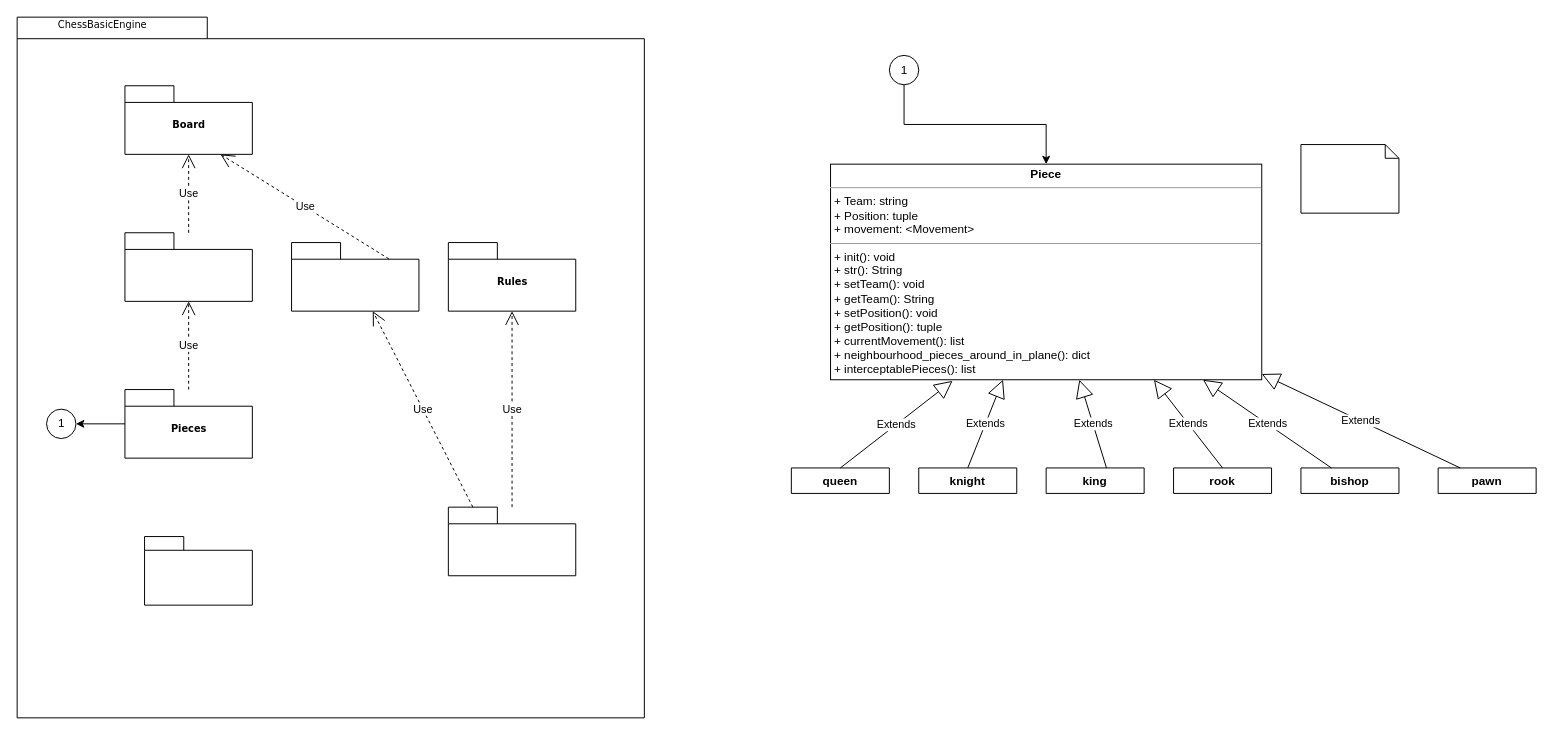
Image size: 1553x735. Some labels were removed from this diagram. Each missing label, with the centre of its shape:
Game: the point at 511,541
GeneralMovements: the point at 188,266
StarterGraphics: the point at 355,276
StatusCodes: the point at 198,570
the movement and postiion is stored in the piece.: the point at 1349,178
